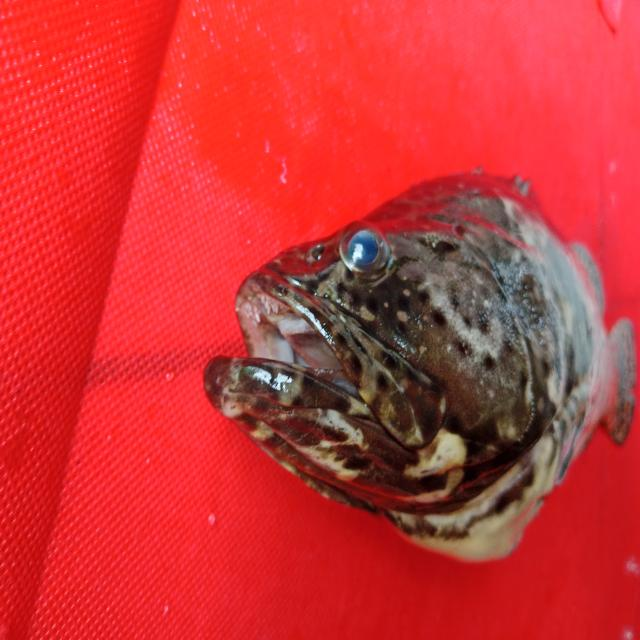ikan: (192, 157, 614, 576)
